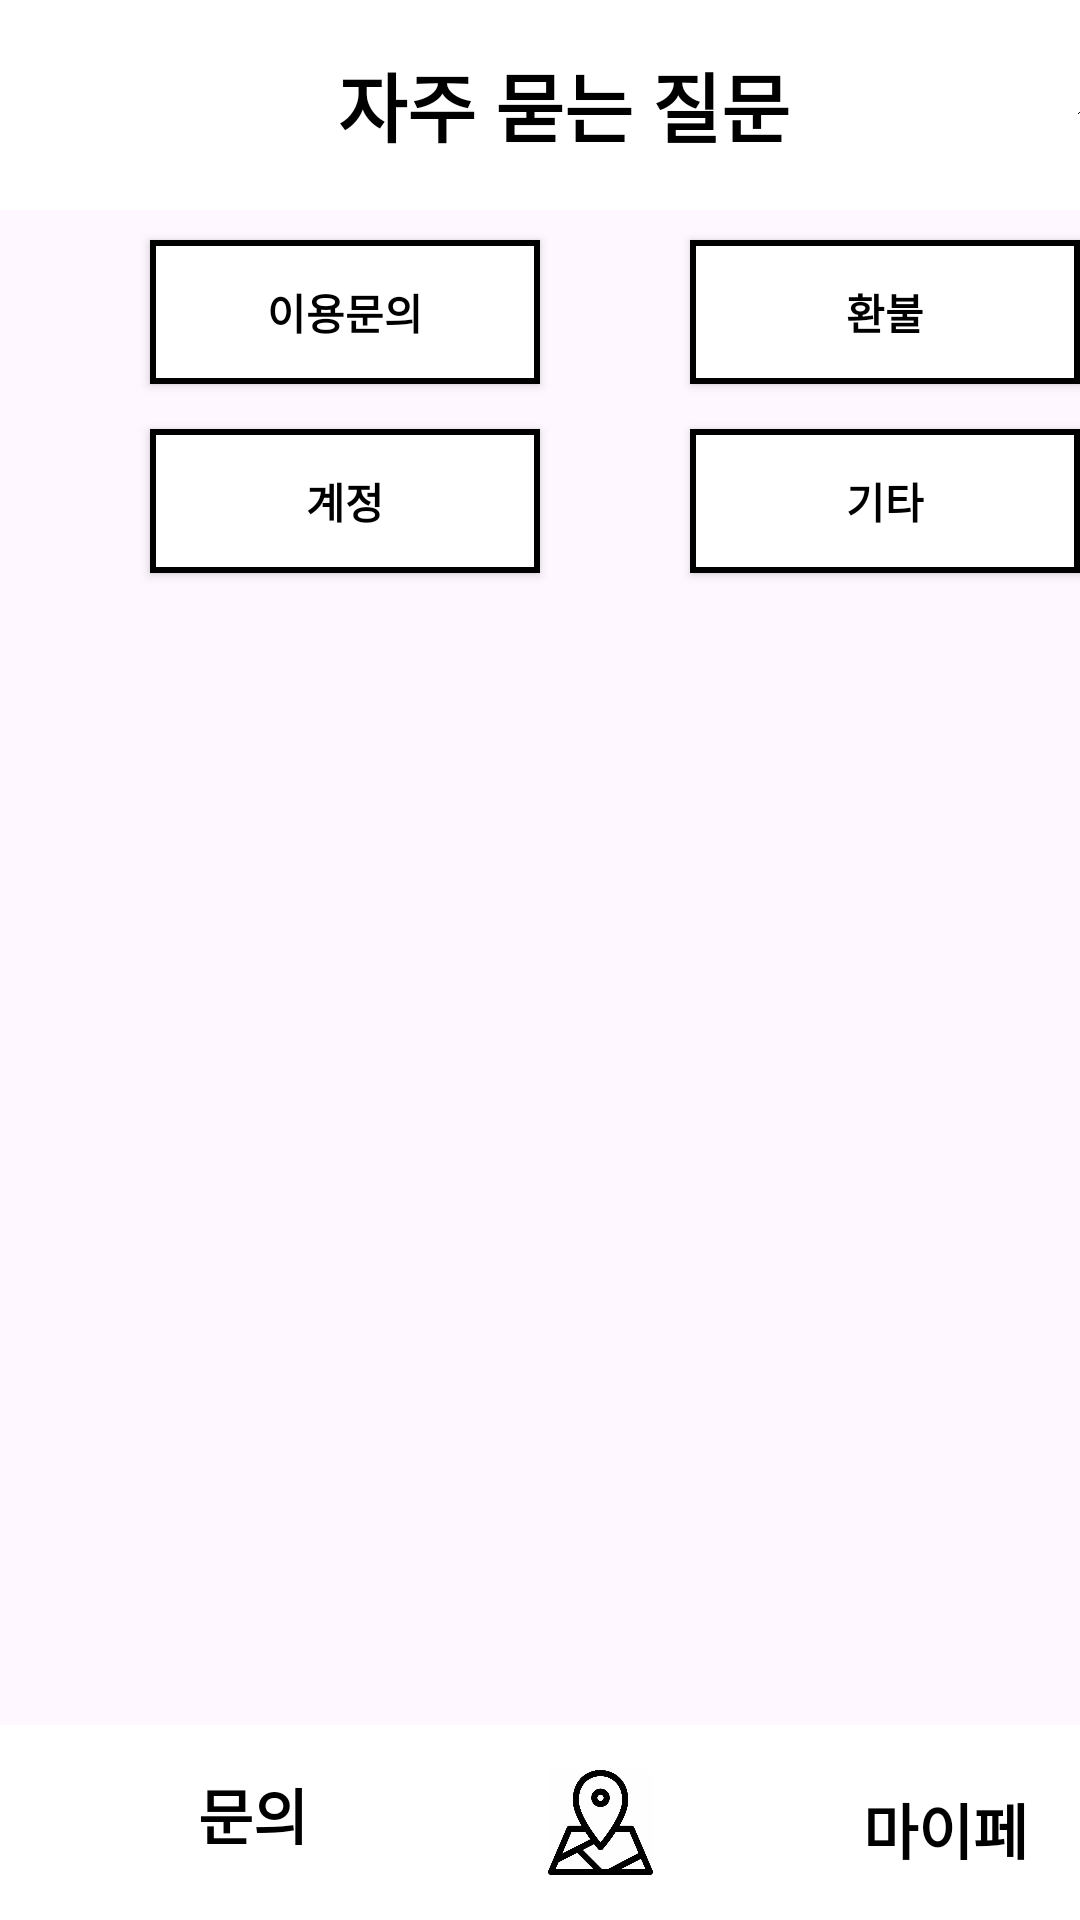

Screen size 1080x1920. Icon name, then its box in pixels as (left=x1, top=y1, right=x2, bottom=y2):
map: (left=548, top=1770, right=653, bottom=1875)
